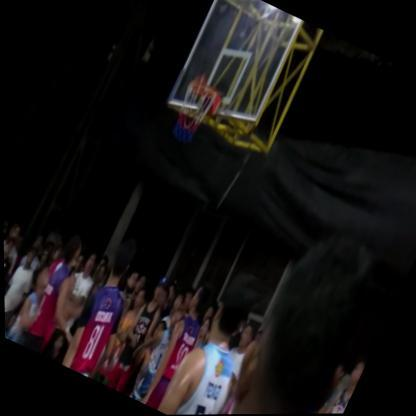rim: (158, 65, 235, 159)
